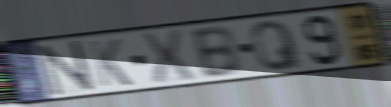9: (302, 13, 343, 67)
B: (188, 24, 243, 81)
K: (86, 37, 134, 89)
N: (36, 38, 97, 98)
Q: (248, 18, 305, 73)
X: (138, 28, 197, 87)
